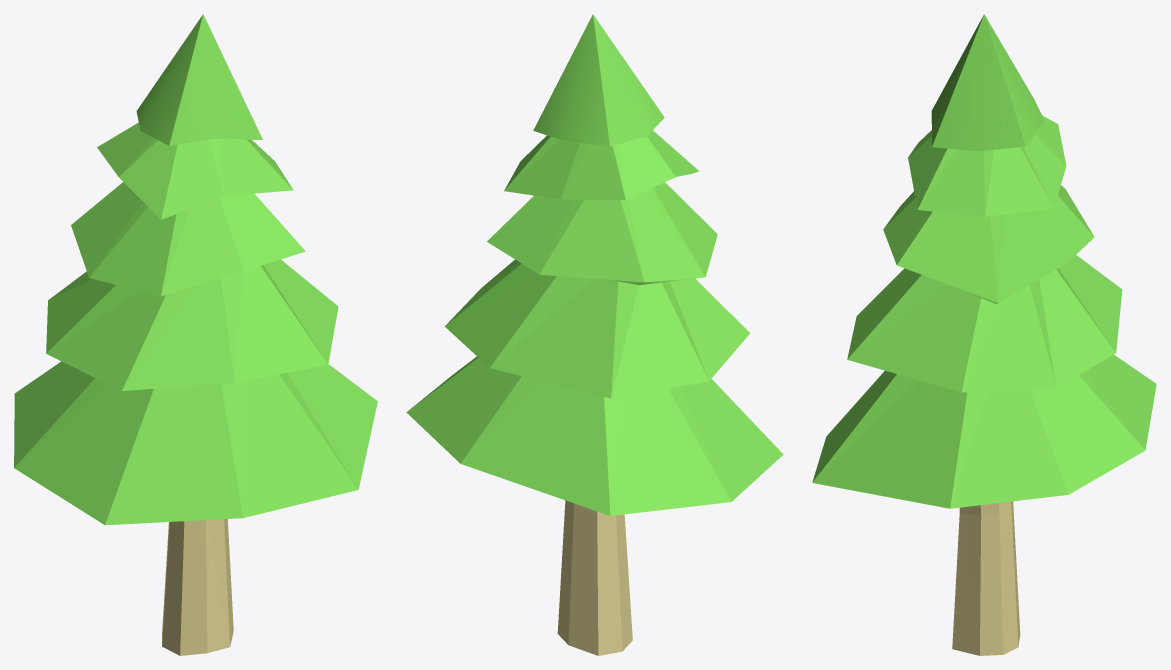
Rendered from sapinvert.FBX.
The picture shows the model from 3 angles, left to right: view 1: azimuth 30°, elevation 25°; view 2: azimuth 150°, elevation 25°; view 3: azimuth 270°, elevation 25°; orthographic projection.
Visible parts, largest first — view 1: Pyramid001; view 2: Pyramid001; view 3: Pyramid001.
Boxes of the visible parts, x1,y1,x2,y2 form: Pyramid001: [14, 14, 377, 655]; Pyramid001: [406, 14, 783, 655]; Pyramid001: [812, 14, 1156, 655].
Size of the model in its own units: 78.9 by 147 by 72.47.
